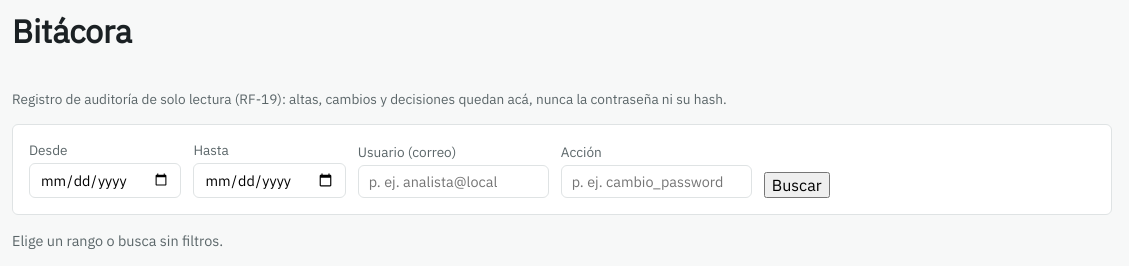
it: Bitacora › muestra un mensaje si no hay registros
This screenshot has width=1129, height=266.
Click the button "Buscar" at (797, 185), box [764,172,830,198]
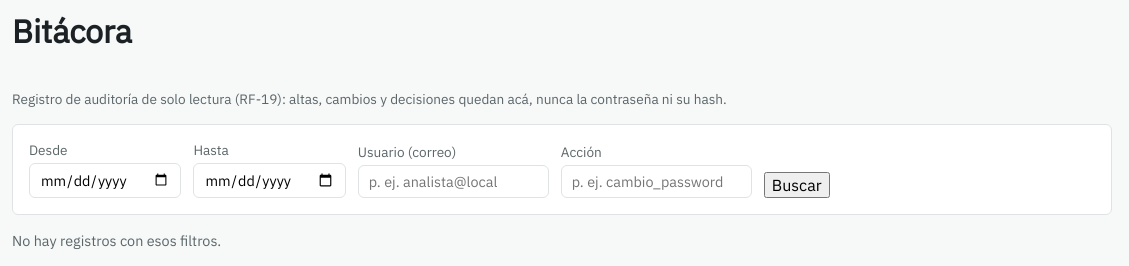
expect the text "No hay registros con esos filtros." is shown: met, box [12,231,221,250]
